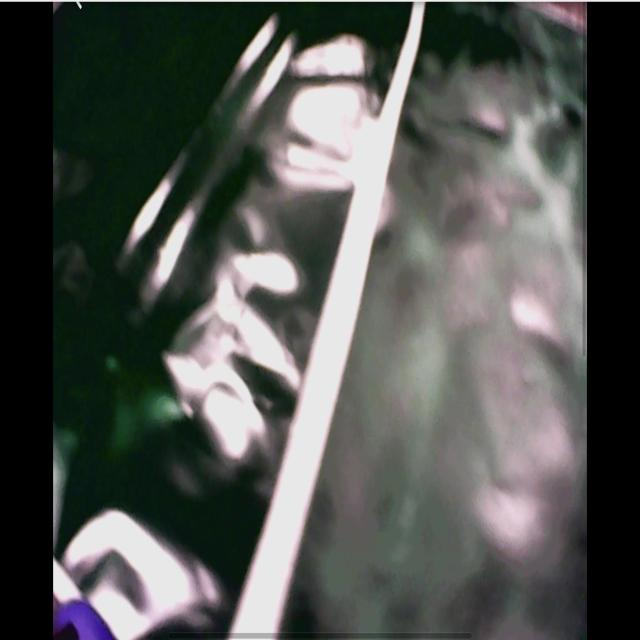ball: (56, 599, 114, 640)
